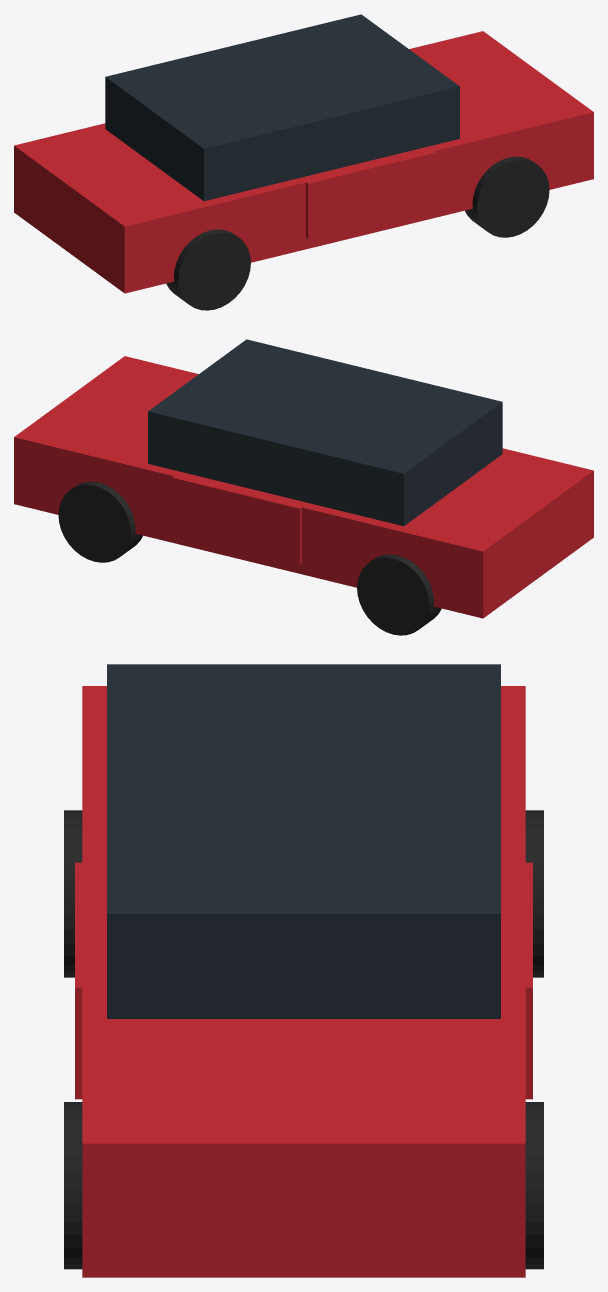
File: car.glb
The picture shows the model from 3 angles, top to bottom: view 1: azimuth 30°, elevation 25°; view 2: azimuth 150°, elevation 25°; view 3: azimuth 270°, elevation 25°; orthographic projection. The views are drawn at different scales.
Parts seen in each view (by area): view 1: Body, Windshield glass, Door_R, Wheel_RR, Wheel_FR; view 2: Body, Windshield glass, Door_L, Wheel_RL, Wheel_FL; view 3: Windshield glass, Body, Wheel_FL, Wheel_FR, Wheel_RL, Wheel_RR, Door_R, Door_L.
Part boxes in pixels (left/top/right/bottom): Body: left=14, top=31, right=593, bottom=293; Windshield glass: left=105, top=14, right=459, bottom=201; Door_R: left=306, top=151, right=435, bottom=239; Wheel_RR: left=166, top=229, right=250, bottom=310; Wheel_FR: left=465, top=156, right=549, bottom=237; Body: left=14, top=356, right=593, bottom=618; Windshield glass: left=148, top=339, right=502, bottom=526; Door_L: left=172, top=476, right=301, bottom=564; Wheel_RL: left=357, top=554, right=441, bottom=635; Wheel_FL: left=58, top=481, right=142, bottom=562; Windshield glass: left=107, top=664, right=500, bottom=1018; Body: left=82, top=686, right=525, bottom=1277; Wheel_FL: left=525, top=1102, right=543, bottom=1269; Wheel_FR: left=64, top=1102, right=82, bottom=1269; Wheel_RL: left=525, top=810, right=543, bottom=977; Wheel_RR: left=64, top=810, right=82, bottom=977; Door_R: left=75, top=862, right=84, bottom=1099; Door_L: left=523, top=862, right=532, bottom=1099.
Bounding box in the file's own units: 4.4 × 1.37 × 1.95.
